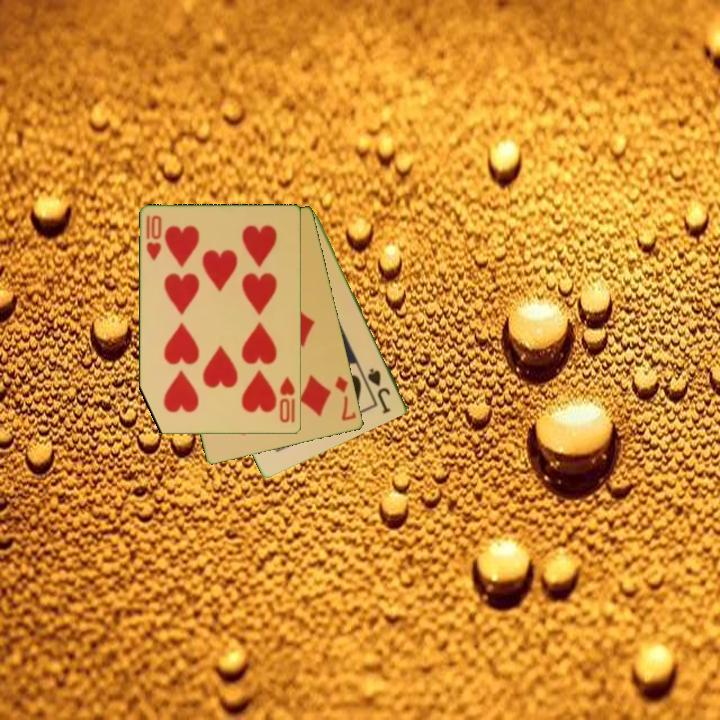10h: (277, 374, 298, 426), (143, 212, 164, 263)
7d: (332, 373, 359, 424)
Js: (365, 365, 394, 416)
